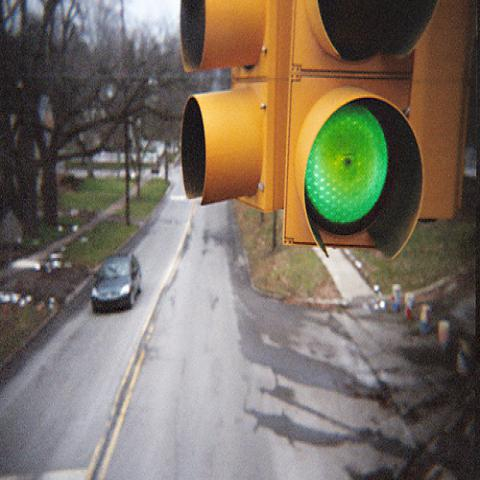car: (90, 253, 142, 313)
